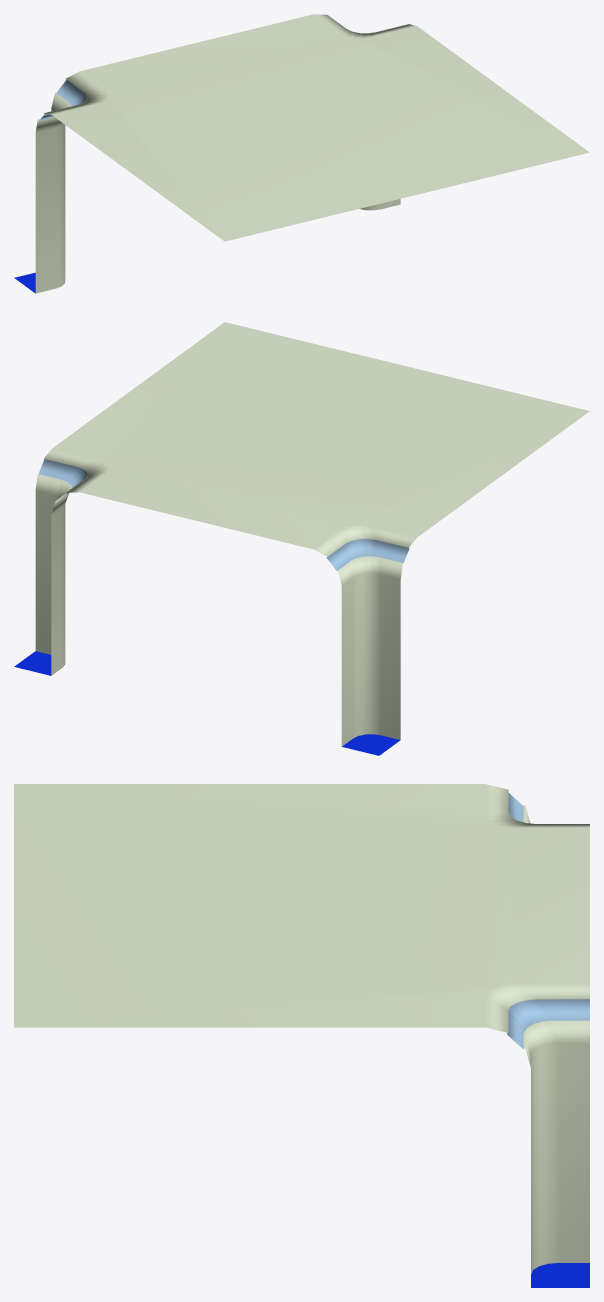
File: Wall_Open_T.fbx
The picture shows the model from 3 angles, top to bottom: view 1: azimuth 30°, elevation 25°; view 2: azimuth 150°, elevation 25°; view 3: azimuth 270°, elevation 25°; orthographic projection. The views are drawn at different scales.
Parts seen in each view (by area): view 1: Wall_Open_T; view 2: Wall_Open_T; view 3: Wall_Open_T.
Boxes of the visible parts, left/top/right/bottom form: Wall_Open_T: left=14, top=14, right=589, bottom=293; Wall_Open_T: left=14, top=322, right=589, bottom=755; Wall_Open_T: left=14, top=784, right=589, bottom=1287.
Bounding box in the file's own units: 100 × 49.85 × 100.
